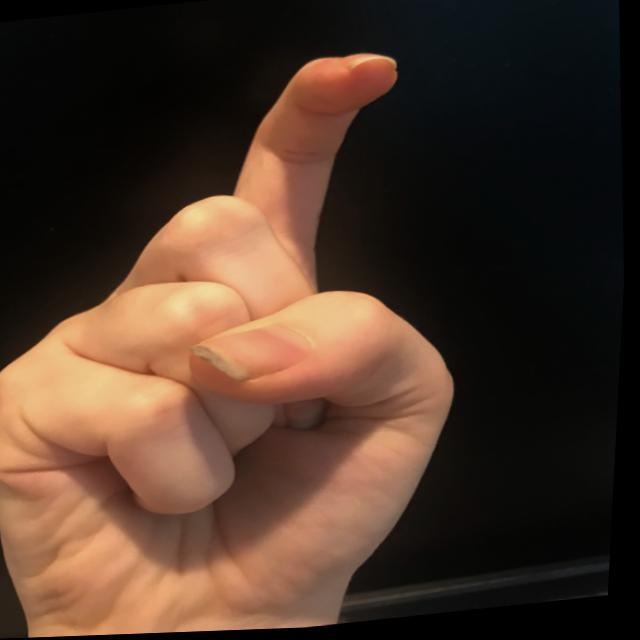X: (0, 38, 498, 639)
